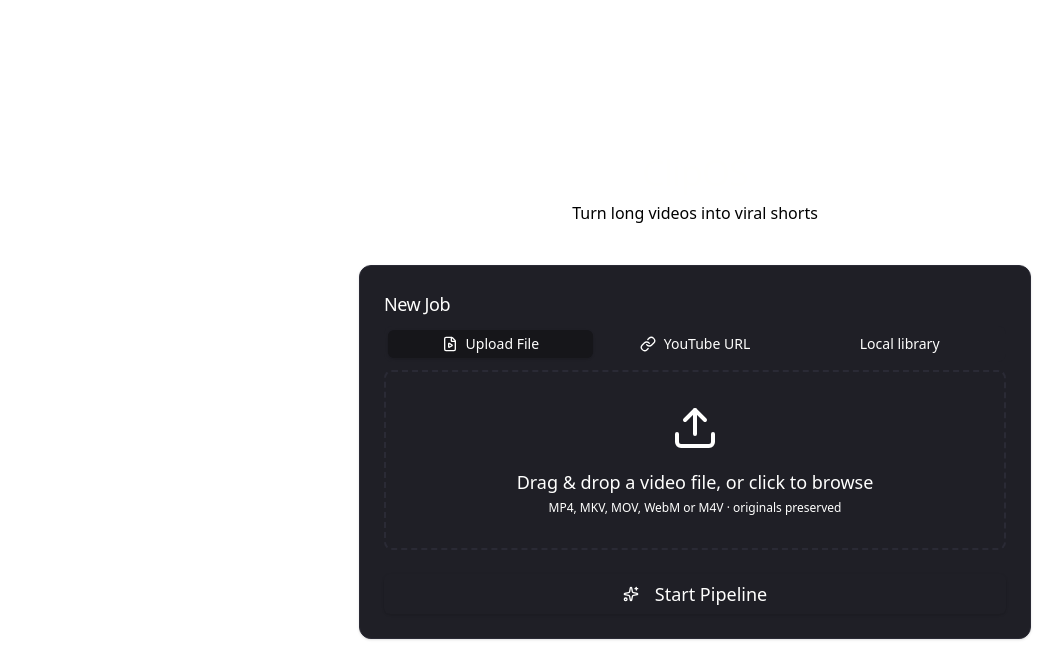
Scenario: Long recording flow › imports a library MKV with the selected microphone and starts processing
Press the mouse on the tab "Local library" at (900, 344), box [797,330,1002,358]
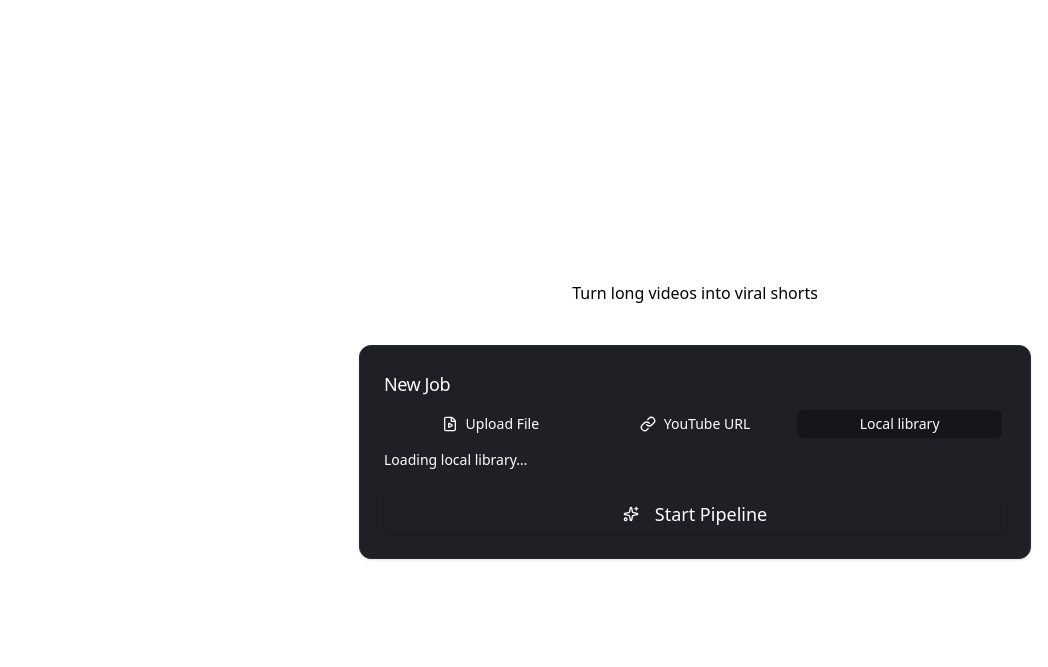
Click the tab "Local library". click: (900, 424)
box: [797,410,1002,438]
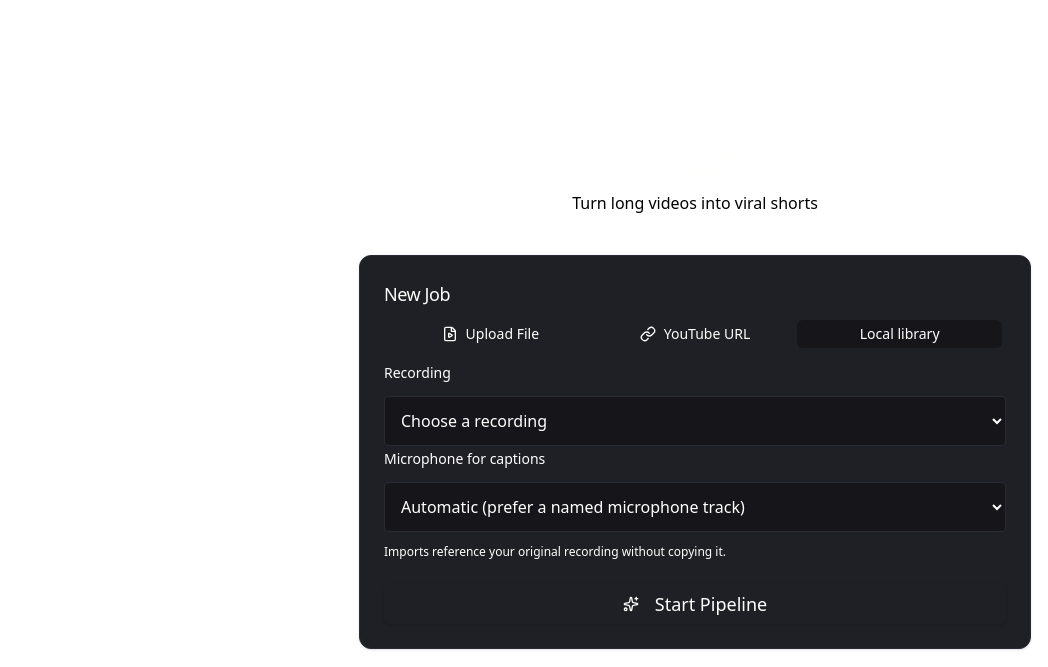
Select "game.mkv" in the dropdown labelled "Recording". click: (695, 421)
box: [384,396,1006,446]
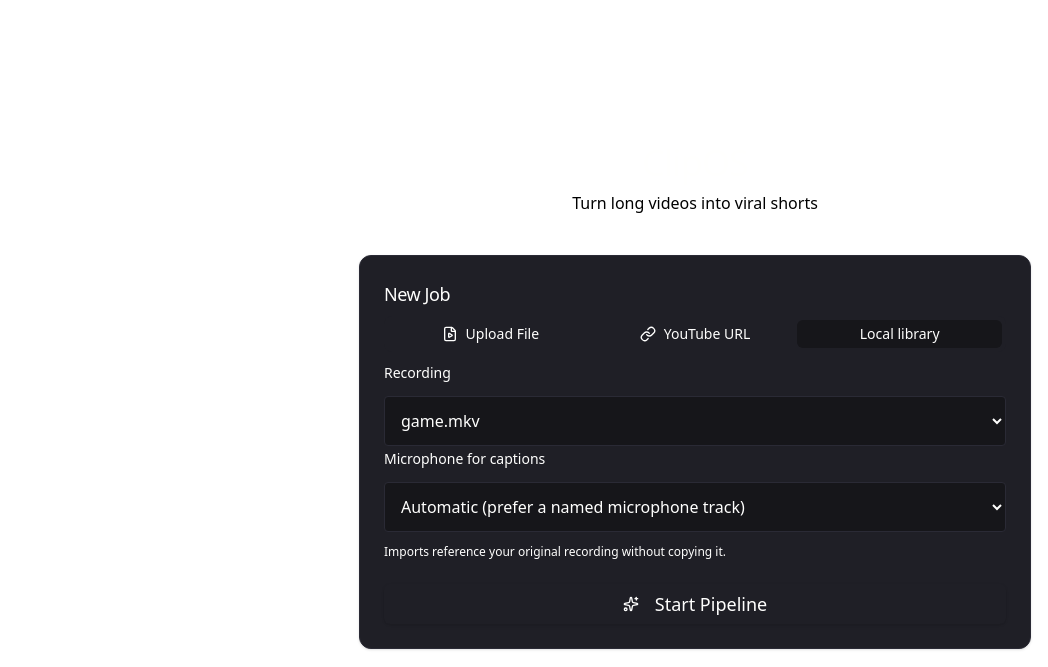
Select "Microphone (aac)" in the dropdown labelled "Microphone for captions". click: (695, 507)
box: [384,482,1006,532]
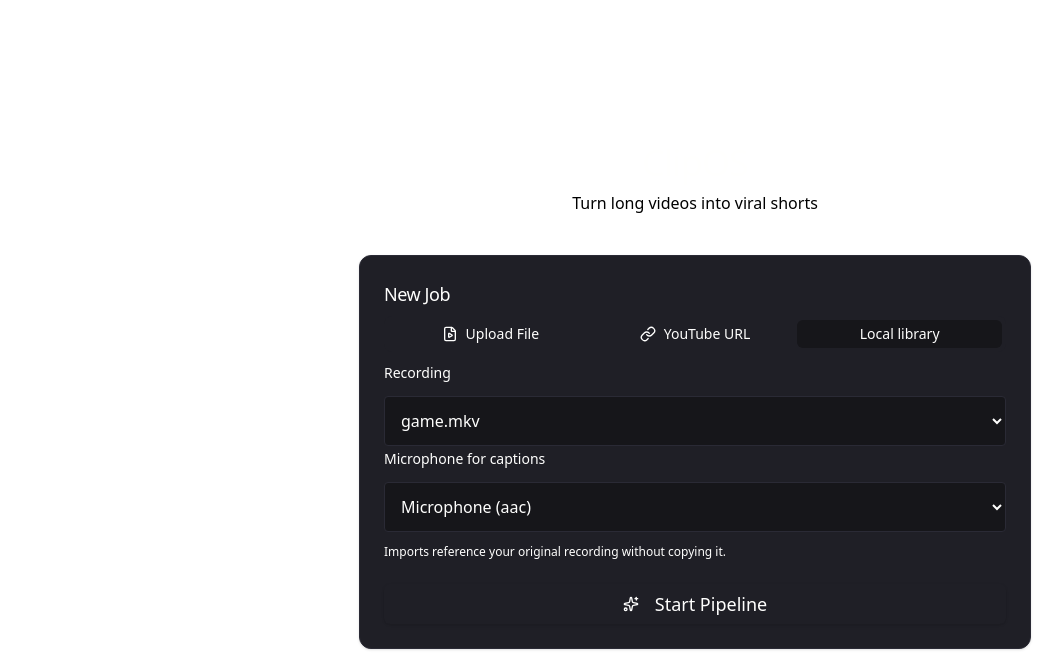
Click the button "Start Pipeline". click: (695, 604)
box: [384,584,1006,624]
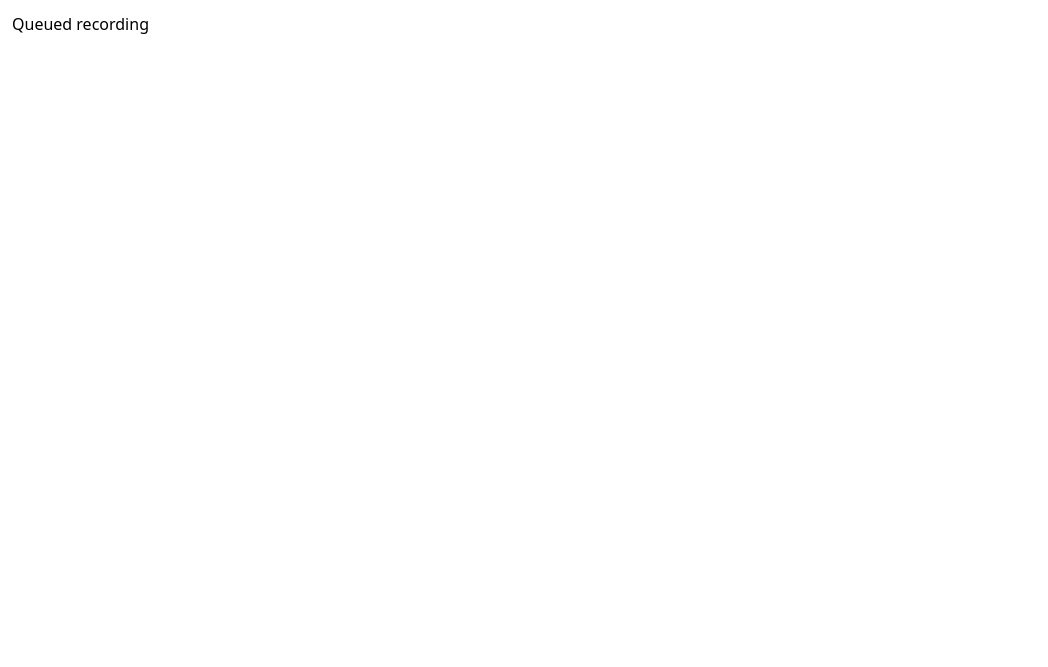
Now the text "Queued recording" is shown, box [12,13,149,35]
